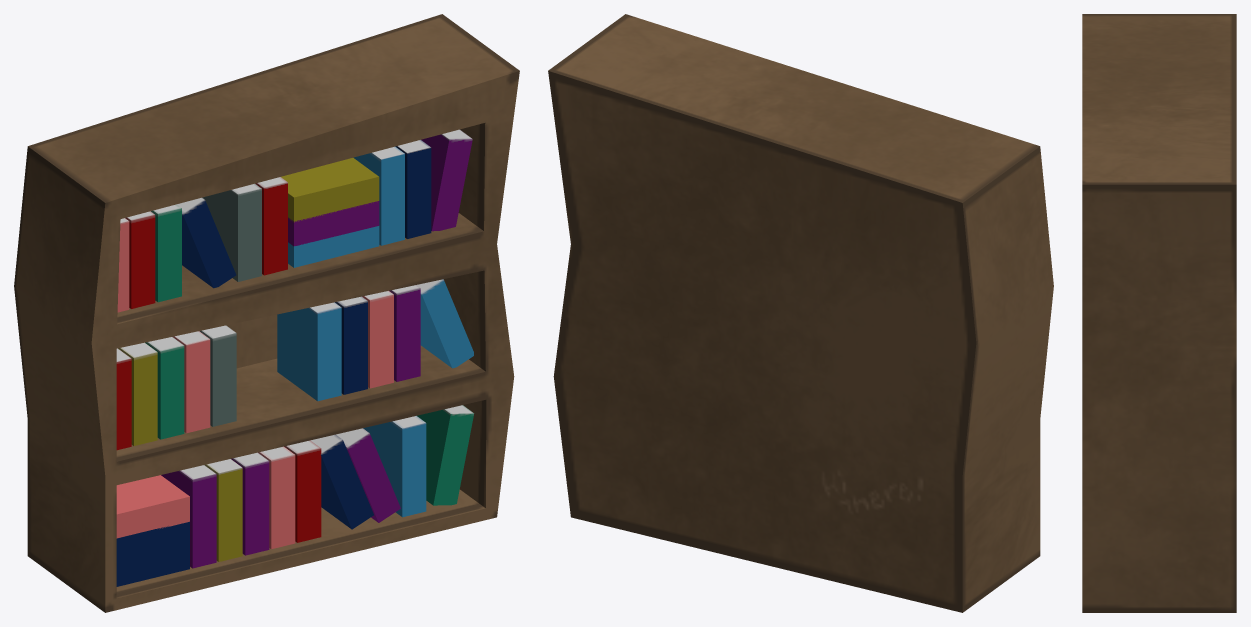
Rendered from study bookcase.fbx.
3 renders of one model, left to right at view 1: azimuth 30°, elevation 25°; view 2: azimuth 150°, elevation 25°; view 3: azimuth 270°, elevation 25°, orthographic.
Visible parts, largest first — view 1: polySurface534; view 2: polySurface534; view 3: polySurface534.
Part boxes in pixels (x1=…): polySurface534: x1=14, y1=14, x2=519, y2=612; polySurface534: x1=548, y1=14, x2=1053, y2=612; polySurface534: x1=1082, y1=14, x2=1236, y2=612.
Size of the model in its own units: 1.33 by 1.31 by 0.4161.
Materials: 1 (1 with a texture image).
